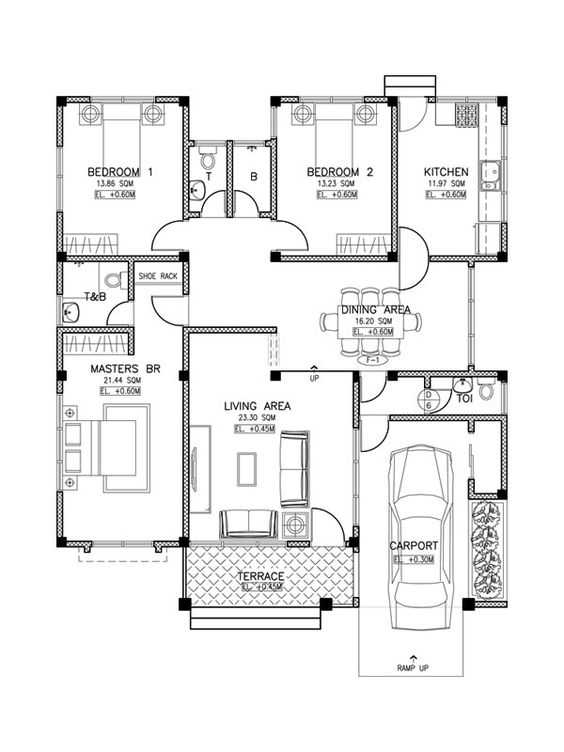door: (148, 292, 179, 329), (398, 108, 429, 145), (310, 502, 341, 539), (145, 215, 176, 252), (280, 216, 311, 253), (399, 221, 429, 251), (395, 264, 426, 290), (359, 428, 387, 456), (358, 383, 382, 408), (105, 302, 130, 325), (232, 184, 252, 212), (208, 188, 226, 210)
